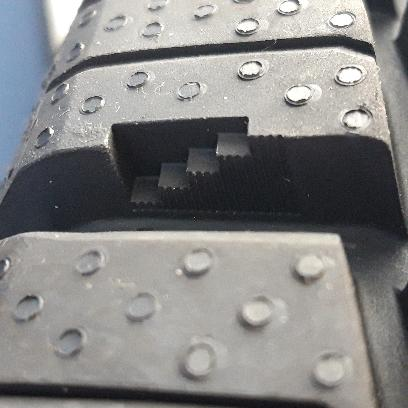temoin:100: (104, 113, 301, 222)
